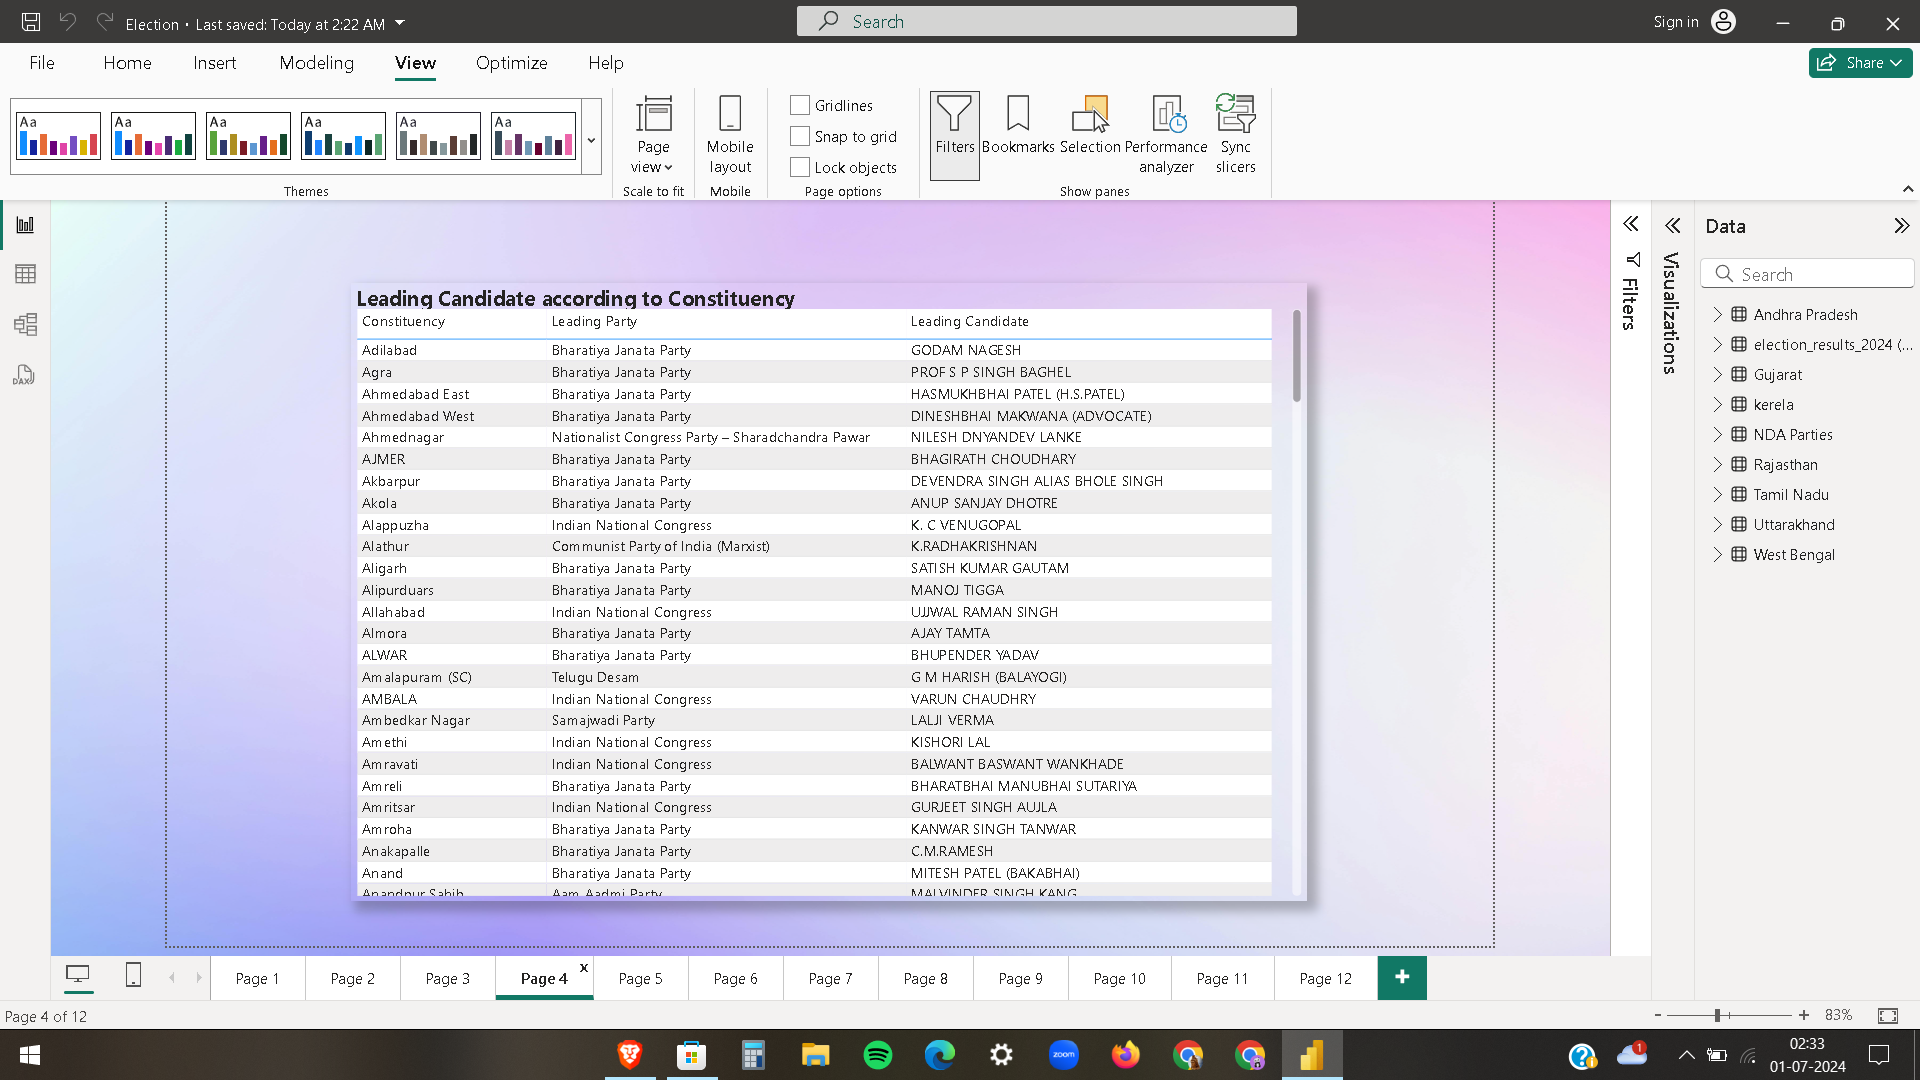

The dashboard page shown, as its layout file describes it:
{"tool":"powerbi","page":{"name":"Page 4","canvas":[1280,720],"ordinal":3},"visuals":[{"type":"tableEx","title":"Leading Candidate according to Constituency","fields":{"Values":["election_results_2024.Constituency","election_results_2024.Leading Party","election_results_2024.Leading Candidate"]},"box":[177.3,79.6,922.9,597.2],"z":0}]}

Visuals, with their boxes on the page's 1280x720 design canvas (x1, y1, x2, y2). These are canvas units, not pixel positions in the 1920x1080 screenshot, which may show the page scaled, cropped or inside an application window:
"Leading Candidate according to Constituency" tableEx: 177:80:1100:677
